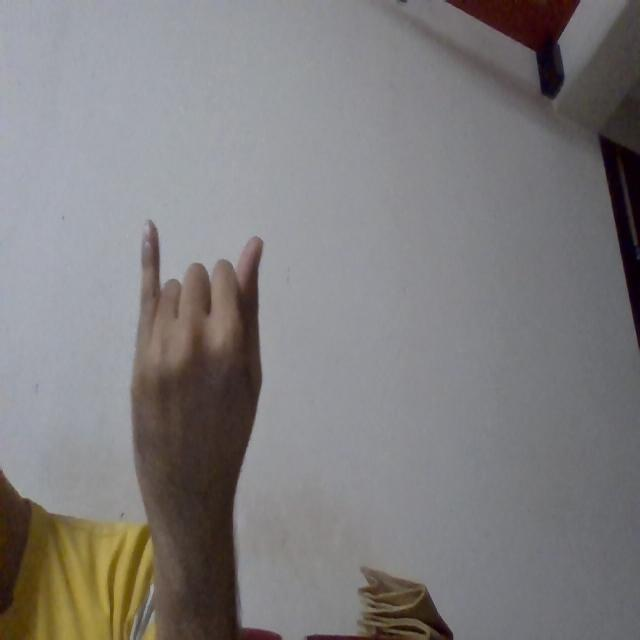J: (107, 185, 321, 552)
